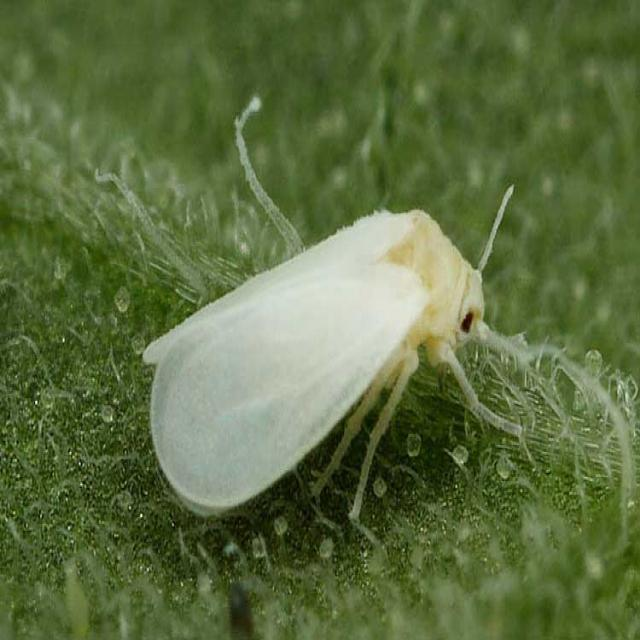Whitefly: (132, 171, 541, 536)
